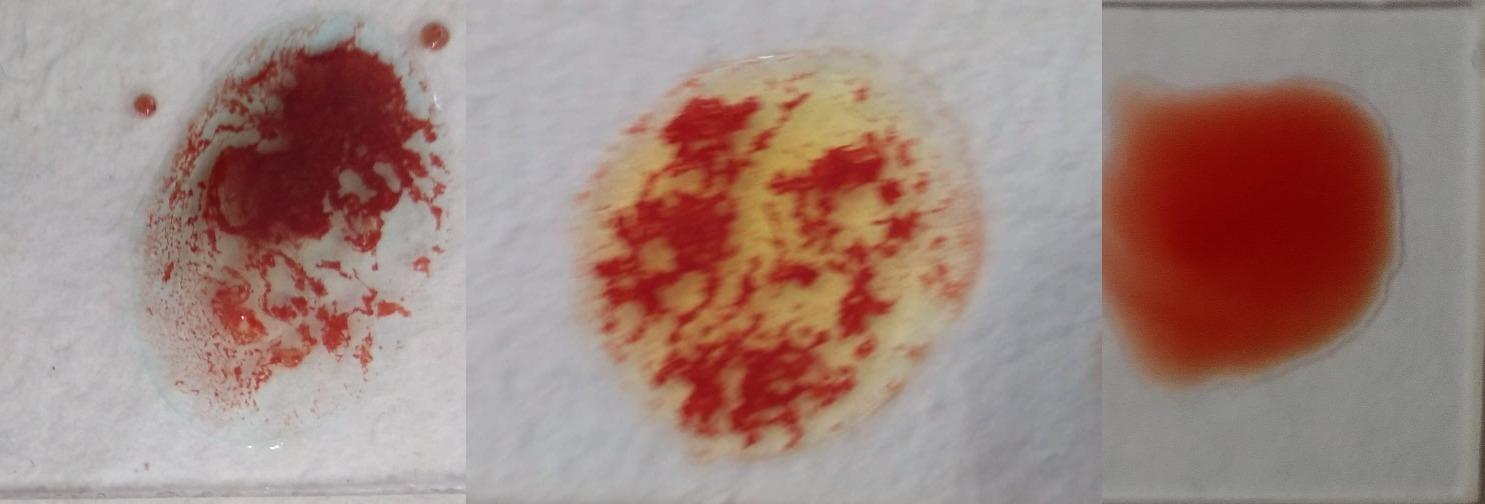A: (146, 13, 450, 420)
B: (586, 47, 964, 459)
